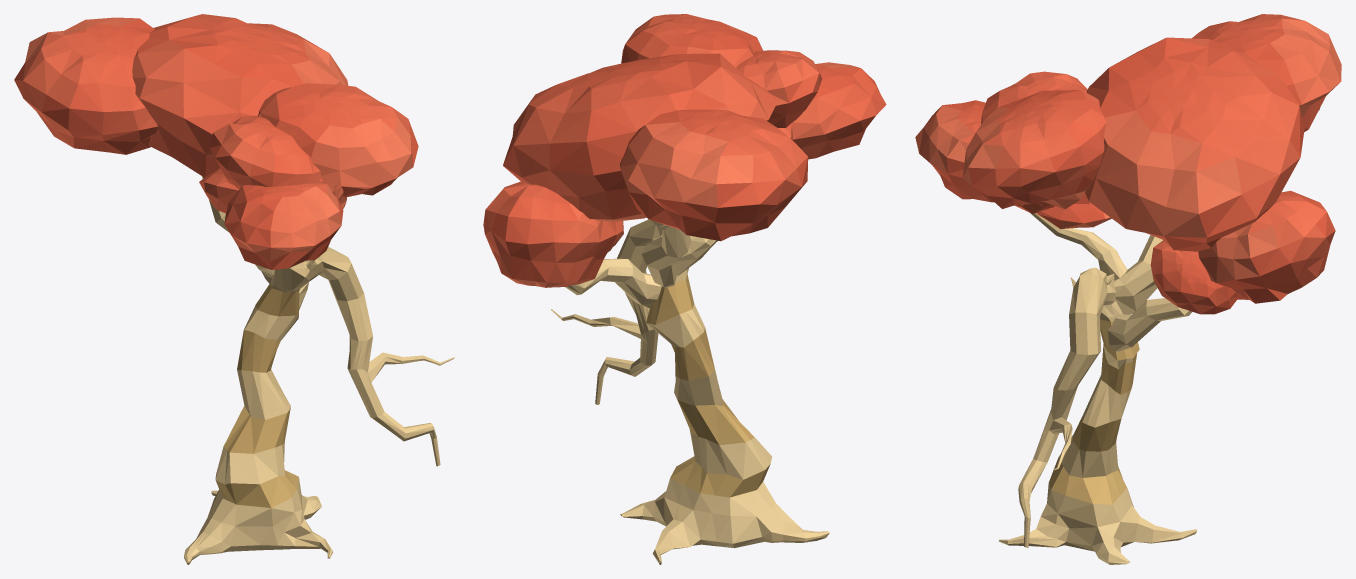
Rendered from tree_3_b.obj.
The picture shows the model from 3 angles, left to right: view 1: azimuth 30°, elevation 25°; view 2: azimuth 150°, elevation 25°; view 3: azimuth 270°, elevation 25°; orthographic projection. The views are drawn at different scales.
Parts seen in each view (by area): view 1: crown_3_b_Material, trunk_3_b_Material; view 2: crown_3_b_Material, trunk_3_b_Material; view 3: crown_3_b_Material, trunk_3_b_Material.
Part boxes in pixels (x1,y1,x2,y2): crown_3_b_Material: (14, 14, 418, 269); trunk_3_b_Material: (184, 176, 454, 564); crown_3_b_Material: (483, 14, 886, 287); trunk_3_b_Material: (551, 219, 829, 564); crown_3_b_Material: (915, 14, 1341, 314); trunk_3_b_Material: (999, 213, 1196, 564).
Size of the model in its own units: 3.91 by 5.36 by 4.36.
